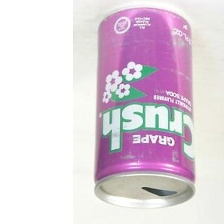can: (88, 3, 201, 211)
